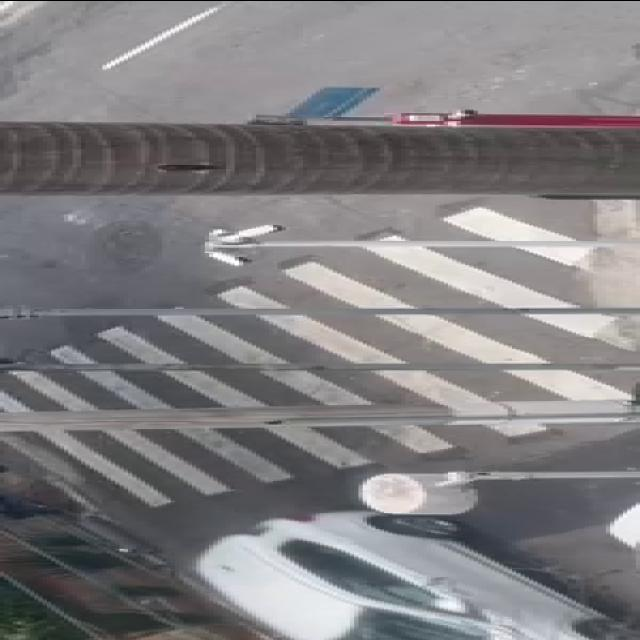car: (213, 509, 609, 640)
